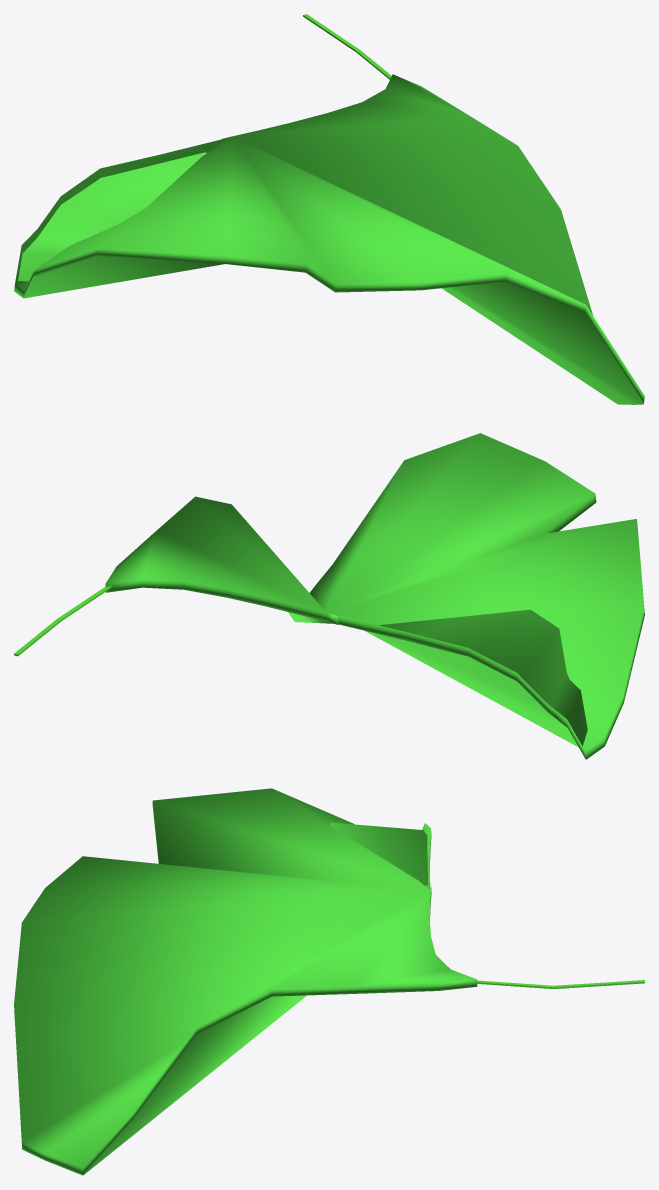
File: leaf3 vol.2.fbx
The picture shows the model from 3 angles, top to bottom: view 1: azimuth 30°, elevation 25°; view 2: azimuth 150°, elevation 25°; view 3: azimuth 270°, elevation 25°; orthographic projection. The views are drawn at different scales.
Parts seen in each view (by area): view 1: Circle; view 2: Circle, Cube; view 3: Circle, Cube.
Part boxes in pixels (<box>): Circle: <box>14,74,644,404</box>; Circle: <box>105,433,644,759</box>; Cube: <box>14,586,111,656</box>; Circle: <box>14,788,477,1175</box>; Cube: <box>474,980,644,988</box>.
Bounding box in the file's own units: 116 × 51.9 × 145.
